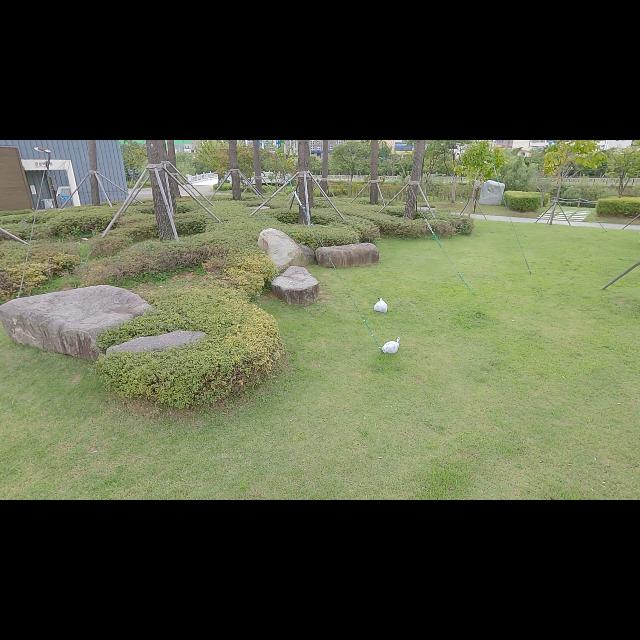trash: (381, 334, 404, 356), (372, 295, 390, 315)
